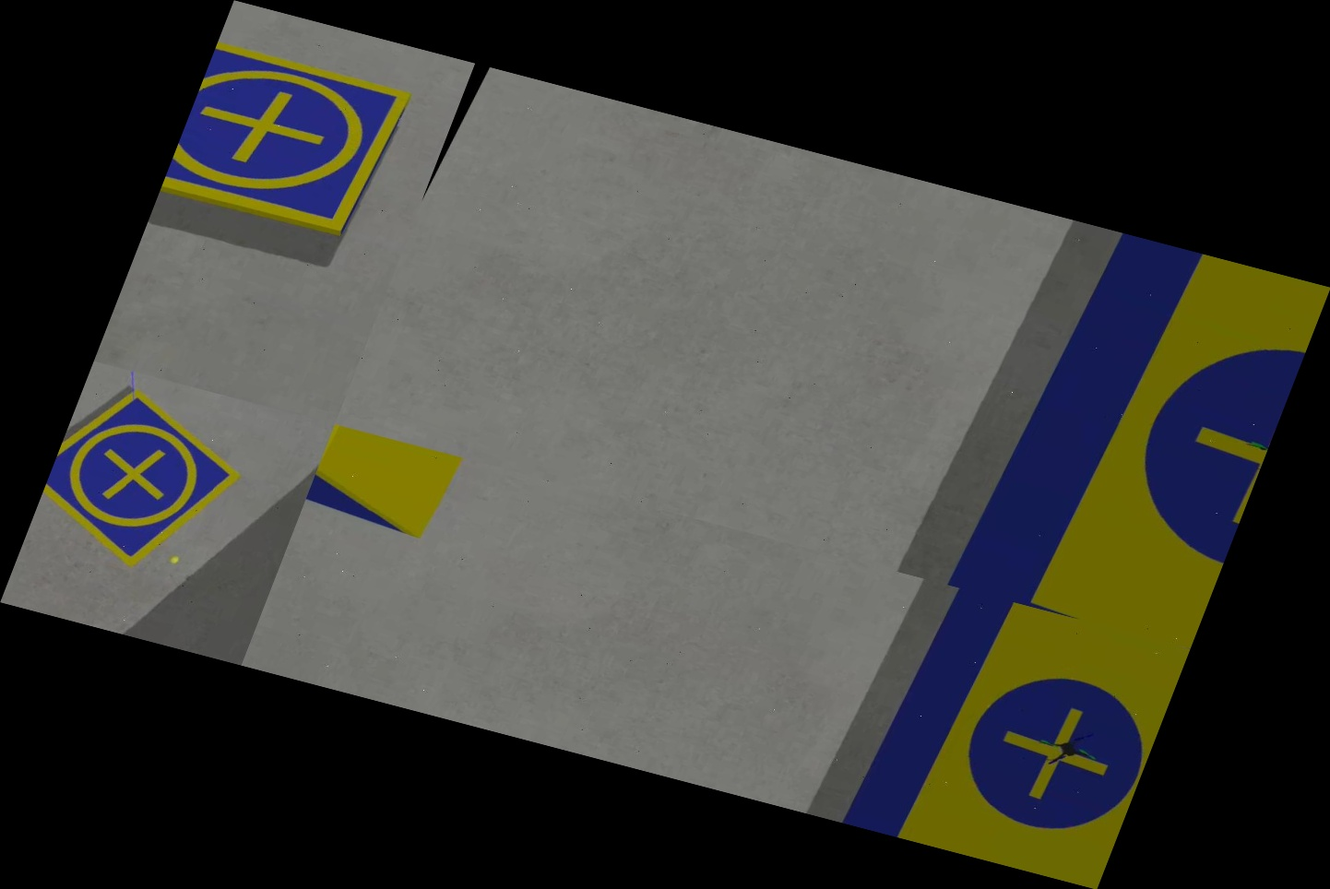large_base: (933, 220, 1330, 648), (835, 580, 1190, 889)
small_base: (152, 24, 425, 261), (23, 373, 268, 589)
